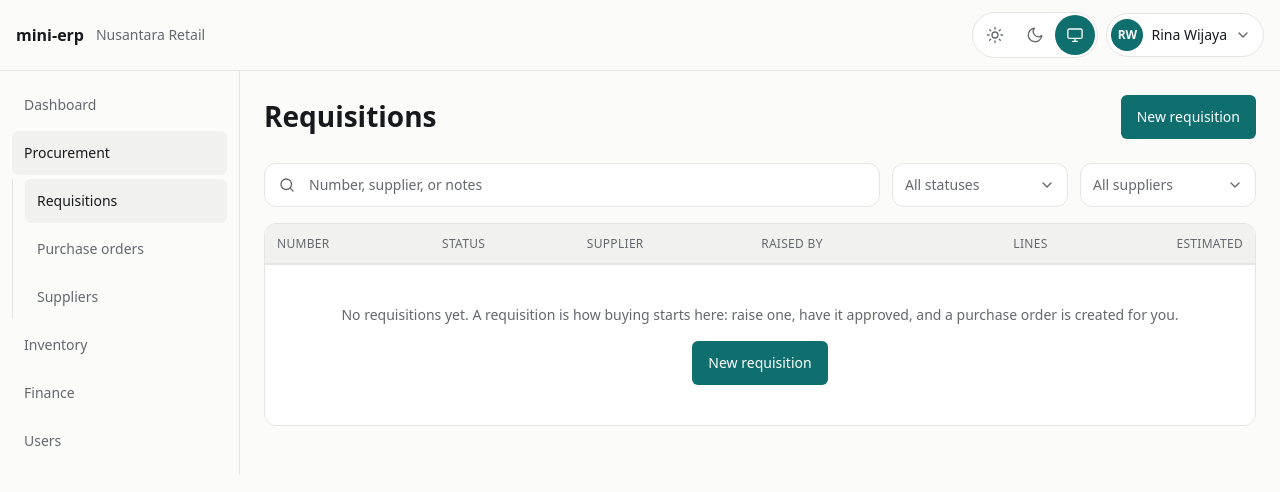
FE31 — the search box and the dropdowns are one row of controls › opens on the current value rather than at the top
Expected: the link "mini-erp" is shown, [16, 23, 84, 47]
Click the dropdown labelled "supplier".
click(1168, 185)  # box [1080, 163, 1256, 207]
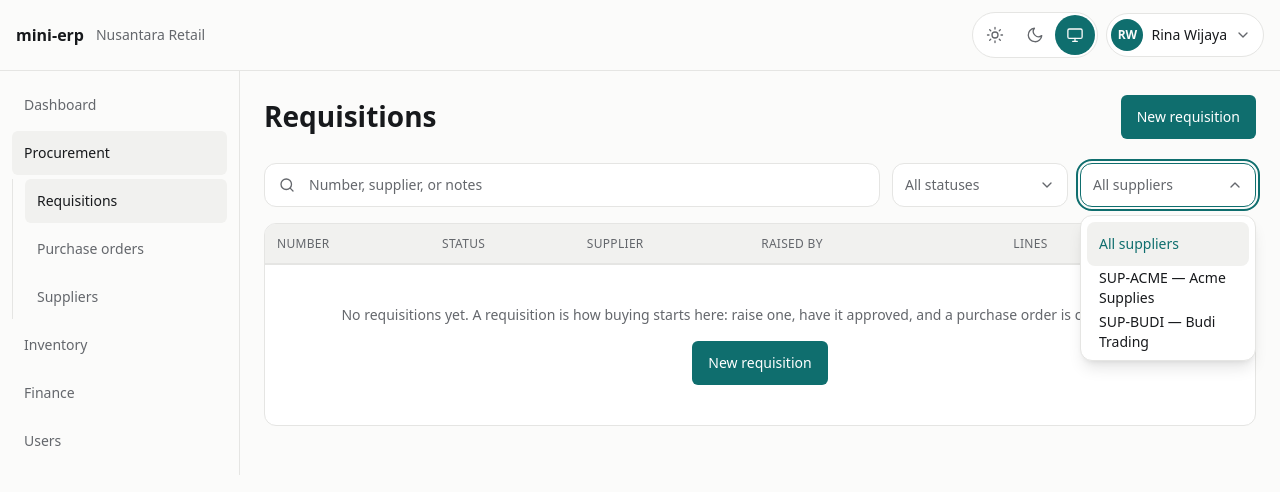
Click the option "SUP-BUDI — Budi Trading".
click(1157, 332)  # box [1099, 312, 1216, 351]
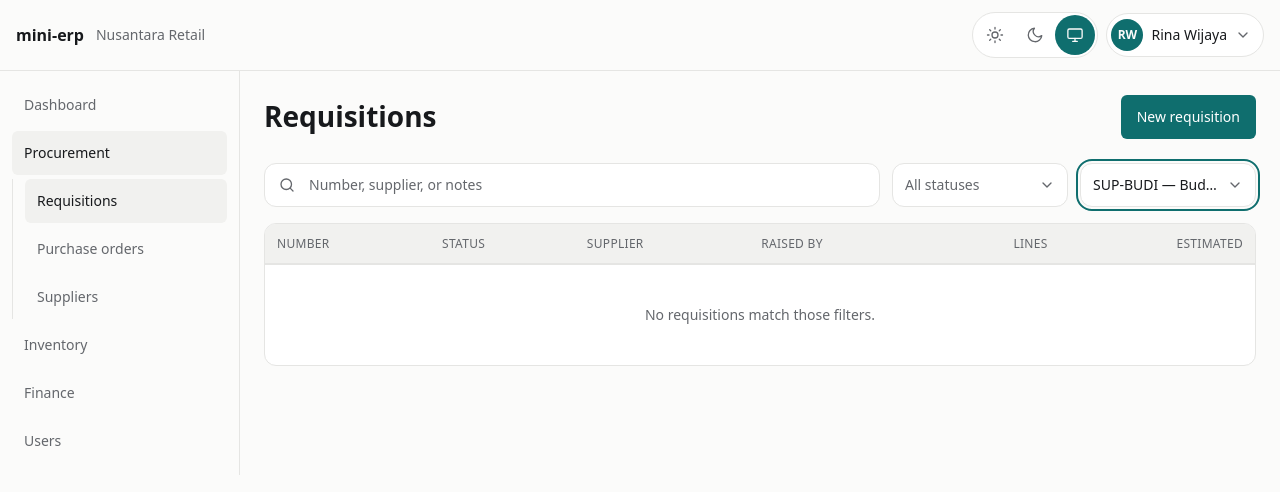
Click the dropdown named "Supplier".
click(1168, 185)  # box [1080, 163, 1256, 207]
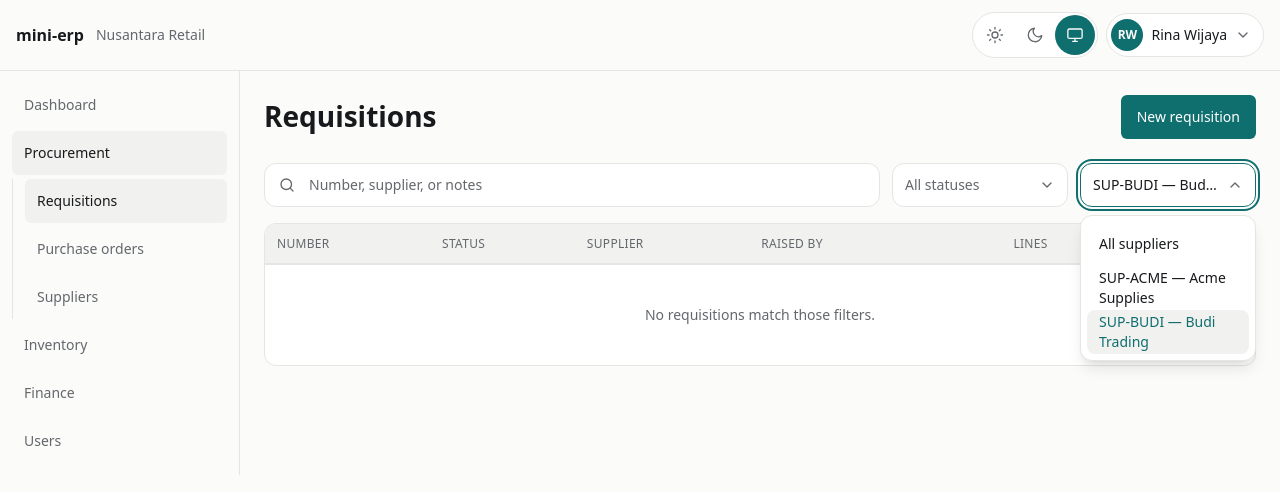
Expected: the option "SUP-BUDI — Budi Trading" is shown, [1087, 310, 1249, 354]
